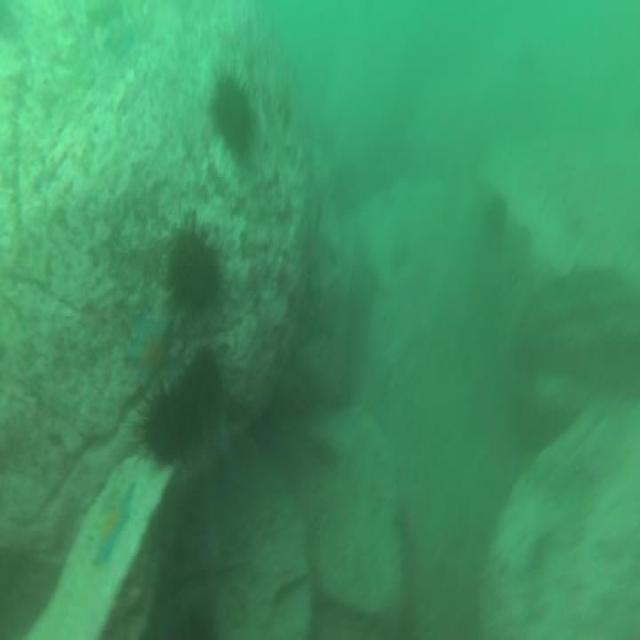echinus: (162, 217, 226, 326), (133, 373, 195, 480), (208, 60, 258, 171), (479, 190, 511, 242)
starfish: (121, 308, 176, 395), (87, 484, 133, 576)
